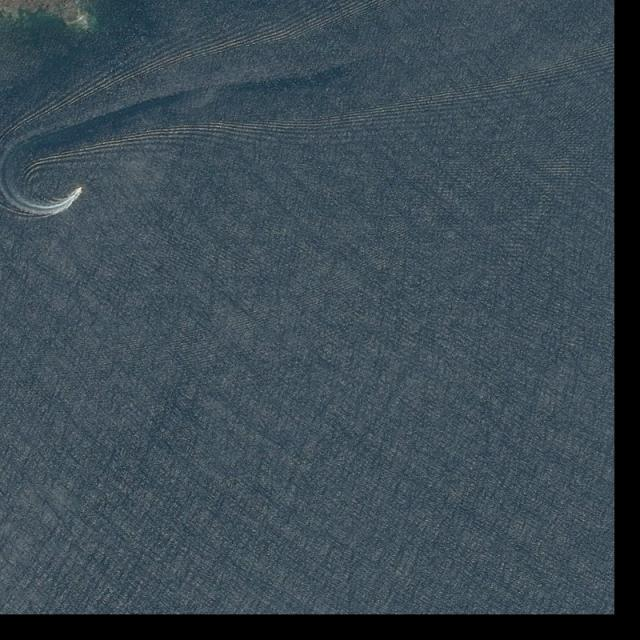ship: (75, 186, 83, 194)
